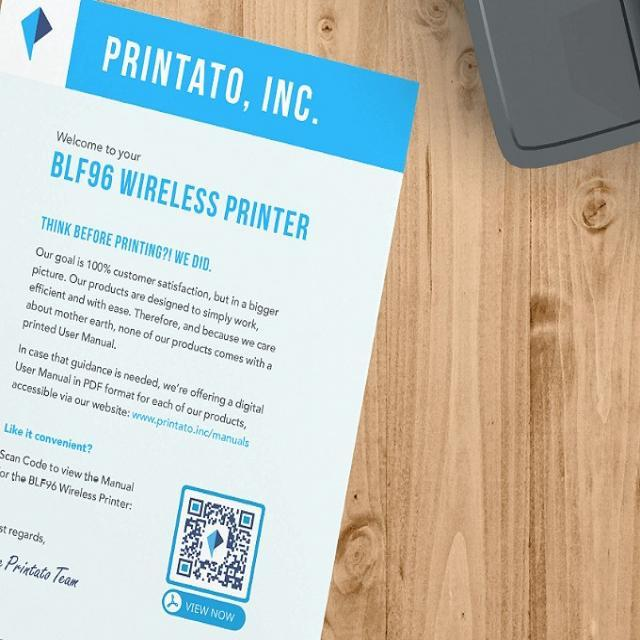qr_code: (176, 498, 255, 591)
